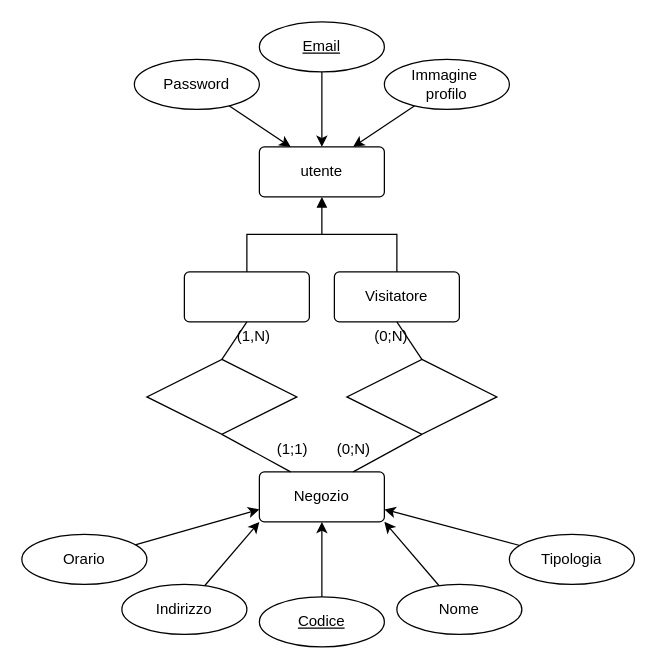
The diagram is 656 pixels wide and 669 high, and some of its shapes have lost their labels. The centre of each missing label's shape, as x and y in pixels:
Artigiano: the point at 246,296
Condivide: the point at 221,396
Salva: the point at 421,396
